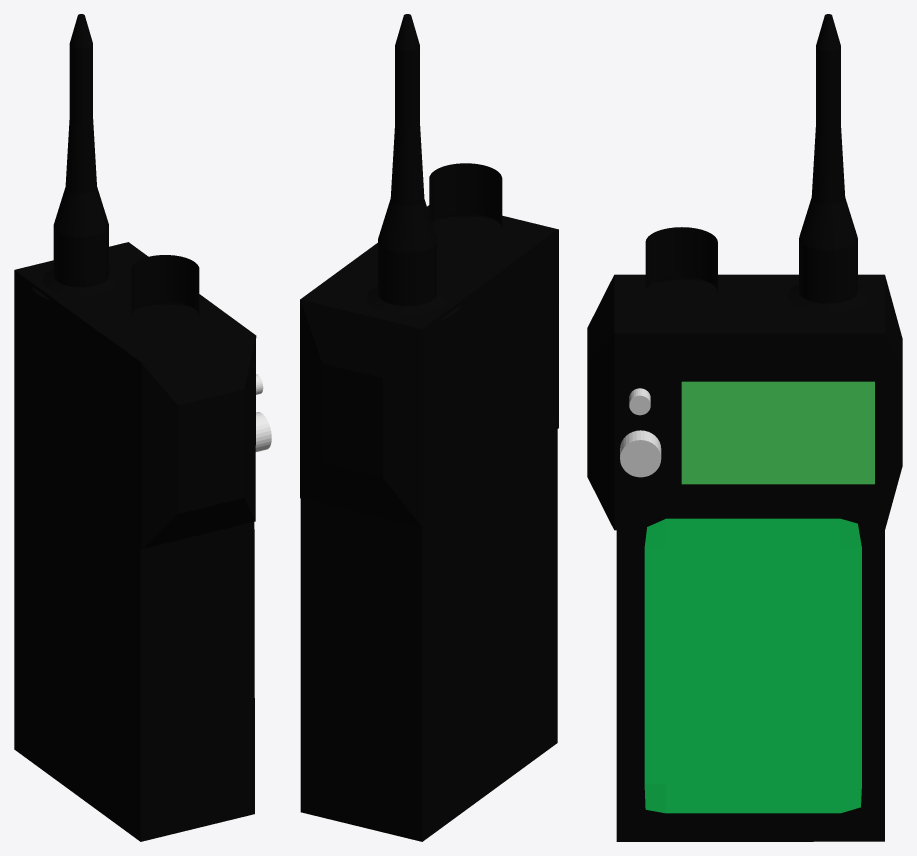
File: Walkie.fbx
The picture shows the model from 3 angles, left to right: view 1: azimuth 30°, elevation 25°; view 2: azimuth 150°, elevation 25°; view 3: azimuth 270°, elevation 25°; orthographic projection. The views are drawn at different scales.
Parts seen in each view (by area): view 1: Walkie, Freq pot; view 2: Walkie; view 3: Walkie, Grid, Screen, Freq pot.
Part boxes in pixels (x1,y1,x2,y2): Walkie: (14,14,256,841); Freq pot: (255,412,271,451); Walkie: (300,14,558,841); Walkie: (587,14,902,841); Grid: (644,518,861,813); Screen: (681,381,874,484); Freq pot: (620,430,661,477).
Size of the model in its own units: 7.74 by 40.46 by 14.66.
